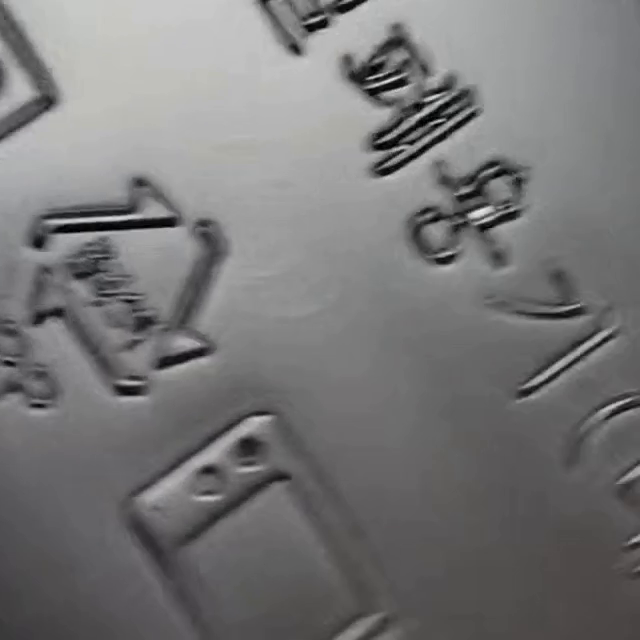Plastic: (26, 173, 226, 399)
